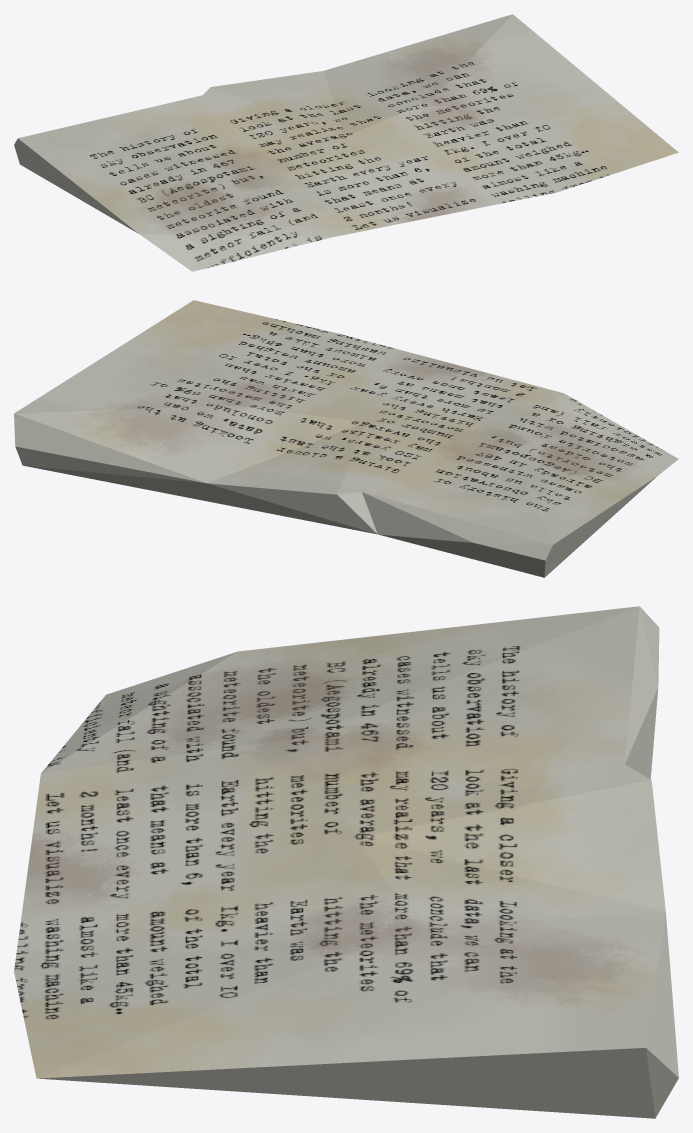
Rendered from SM_Newspaper_02.fbx.
3 views of the same model, one above another, from view 1: azimuth 30°, elevation 25°; view 2: azimuth 150°, elevation 25°; view 3: azimuth 270°, elevation 25° (orthographic). The views are drawn at different scales.
Parts seen in each view (by area): view 1: SM_Newspaper_02; view 2: SM_Newspaper_02; view 3: SM_Newspaper_02.
Part boxes in pixels (x1,y1,x2,y2): SM_Newspaper_02: (14,14,678,271); SM_Newspaper_02: (14,300,678,577); SM_Newspaper_02: (14,606,678,1118).
Bounding box in the file's own units: 43.64 × 3.7 × 27.59.
